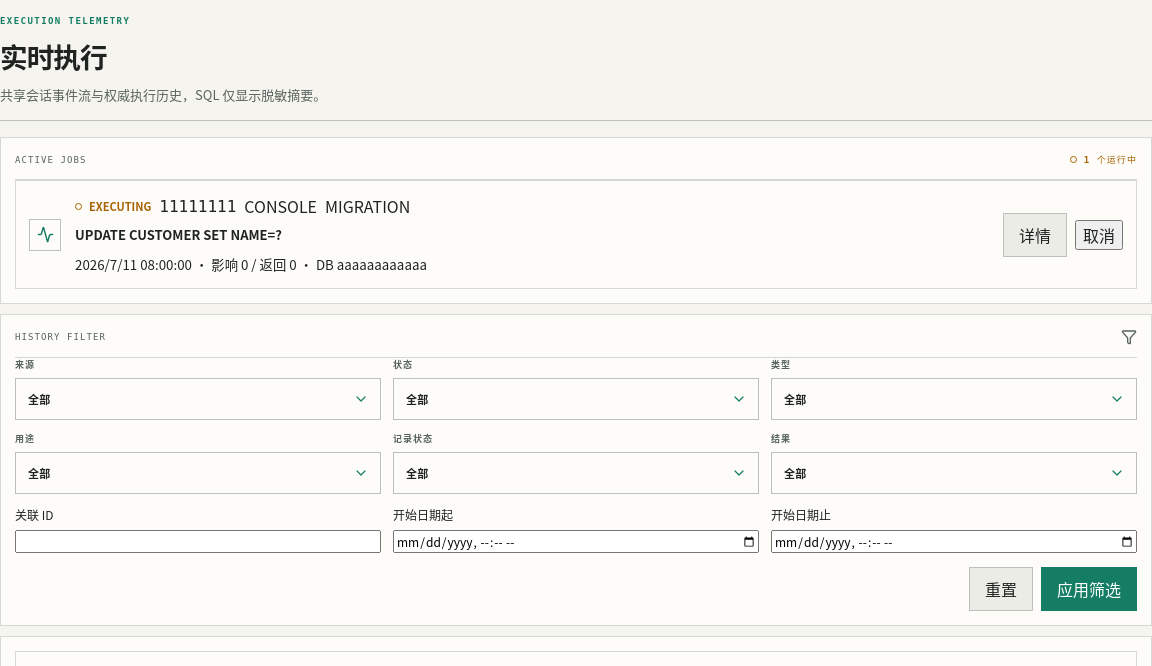
Test: bounds unknown cancellation polling and offers a manual status retry
Click the button with aria-label "取消任务".
click(1099, 235)  # box [1075, 220, 1123, 250]
Wait 5000 ms
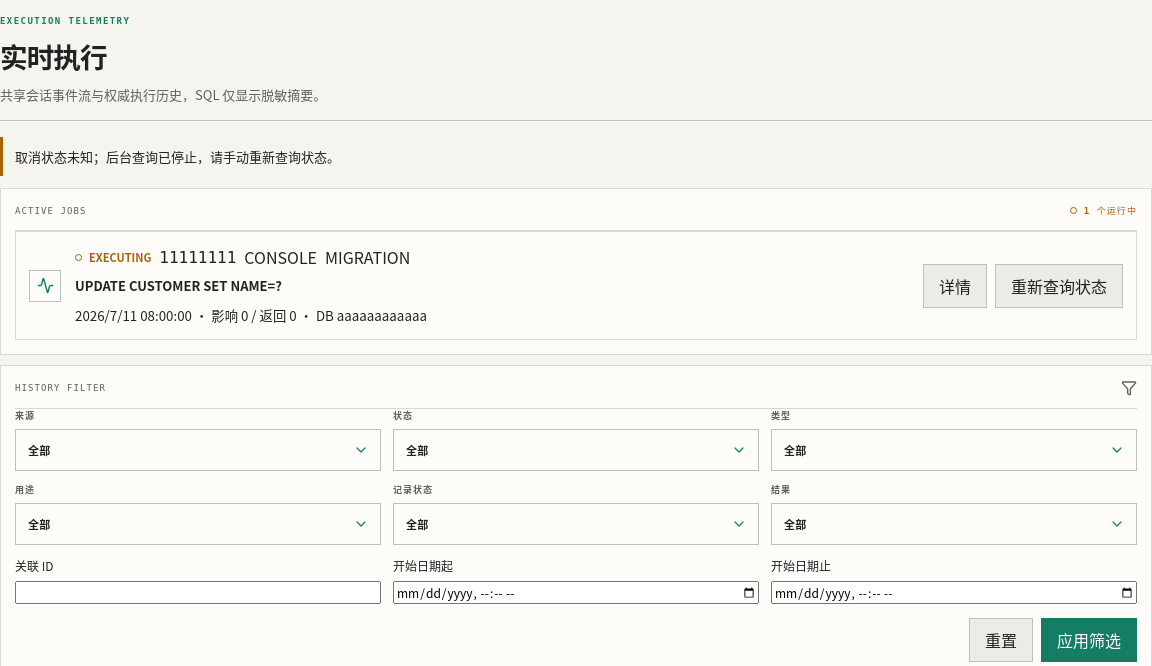
Check: the text "取消状态未知；后台查询已停止，请手动重新查询状态。" is shown, box [0, 137, 1151, 176]
Click the button "重新查询状态".
click(1059, 286)  # box [995, 264, 1123, 308]
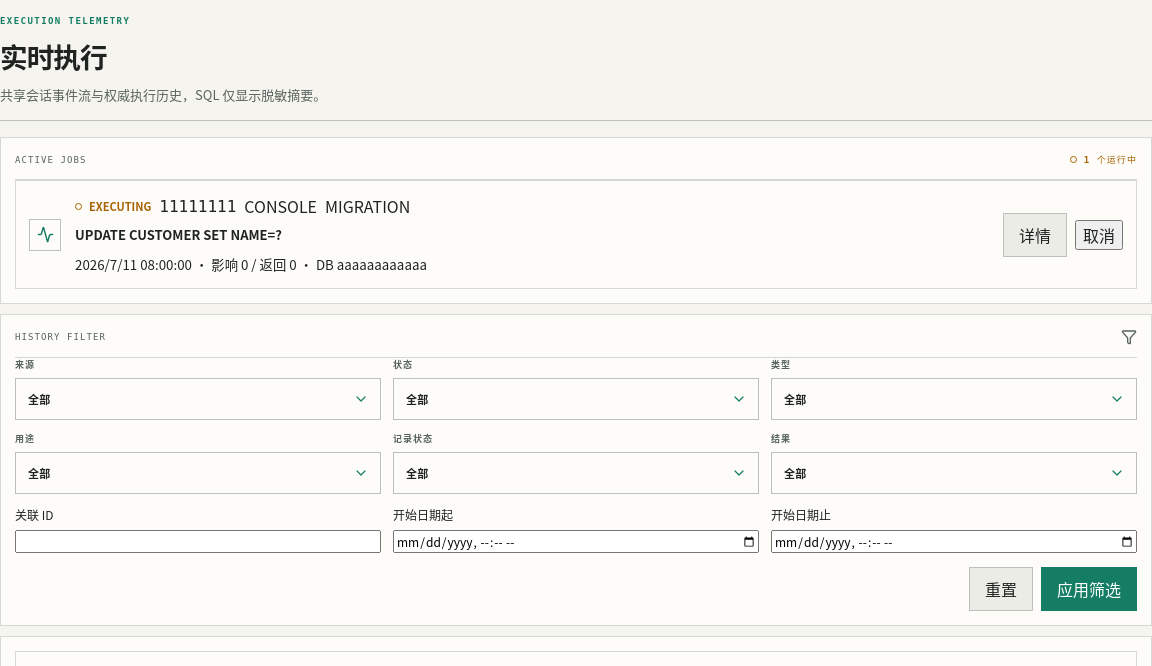
Check: the text "取消状态未知" is gone
